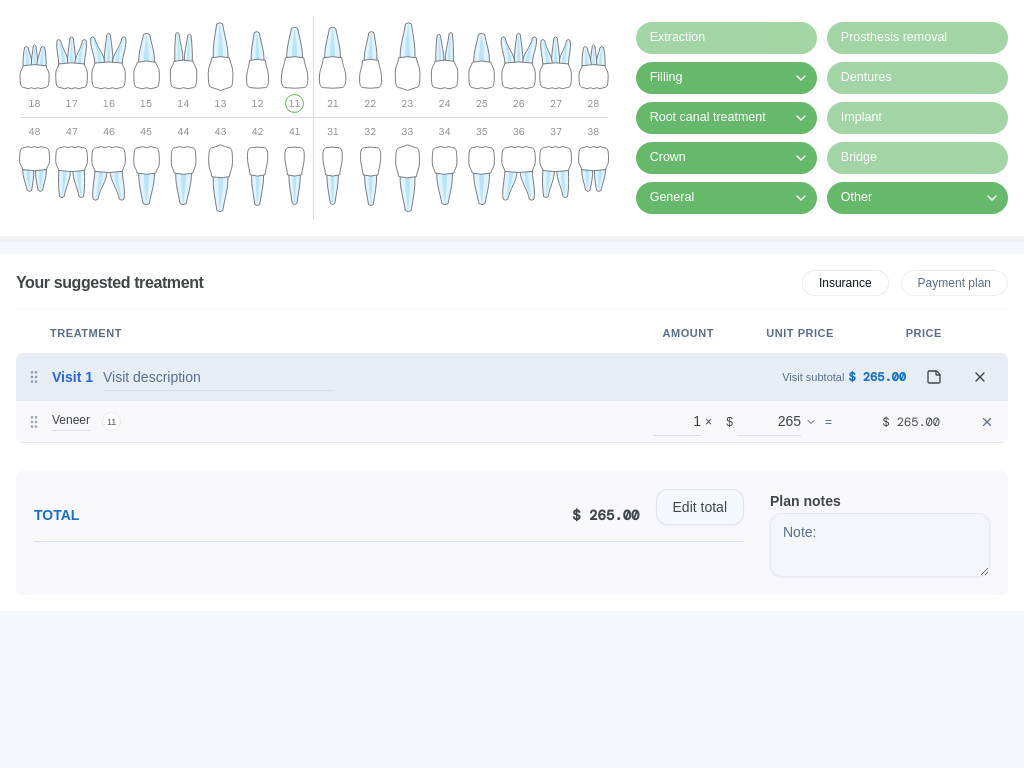
it: edits teeth on the existing treatment row
Click the button named "Edit teeth for Veneer".
click(112, 422)  # box [102,412,121,431]
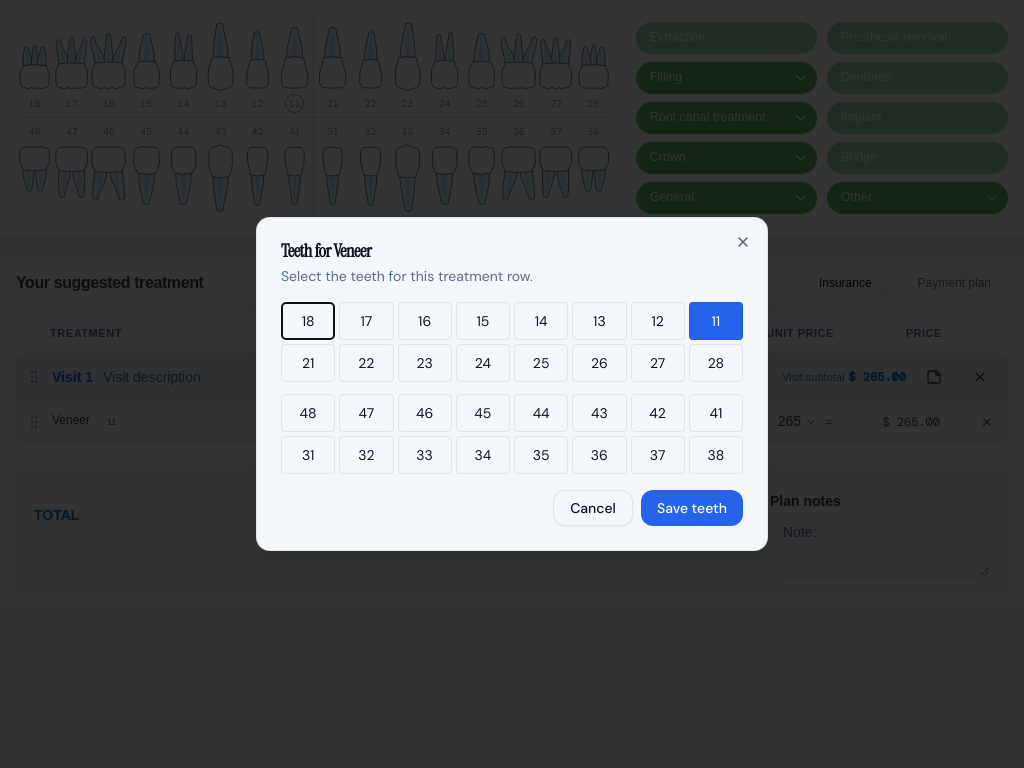
Click the button "18".
click(308, 321)  # box [281,302,335,340]
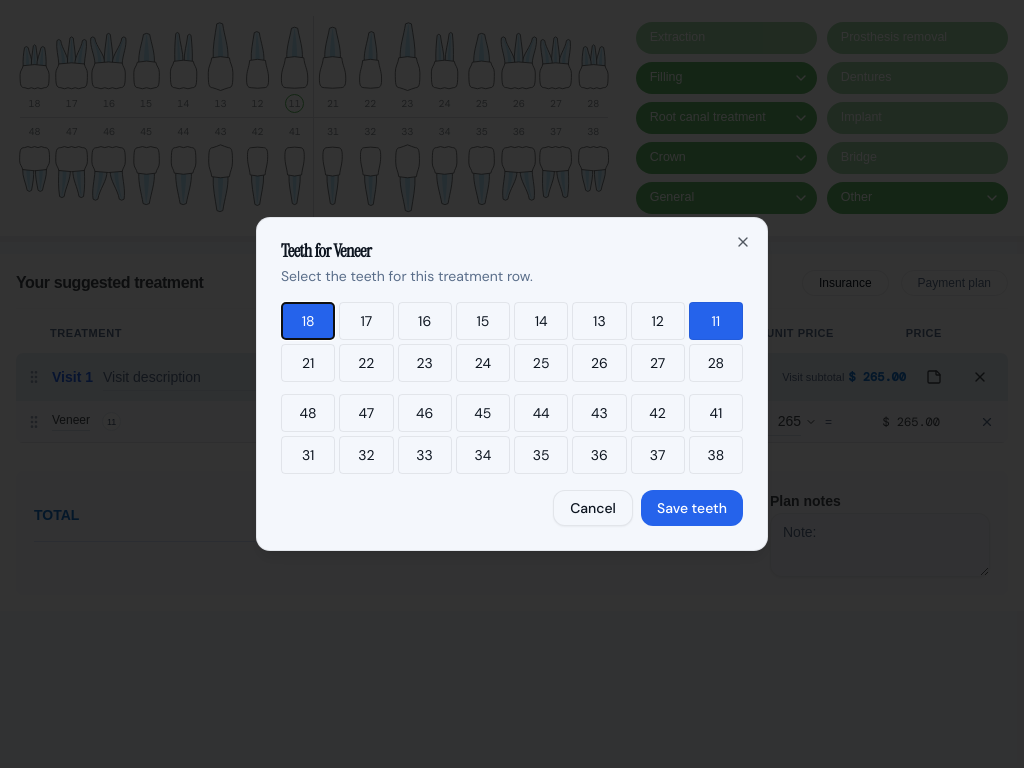
Click the button "Save teeth".
click(692, 508)  # box [641,490,743,526]
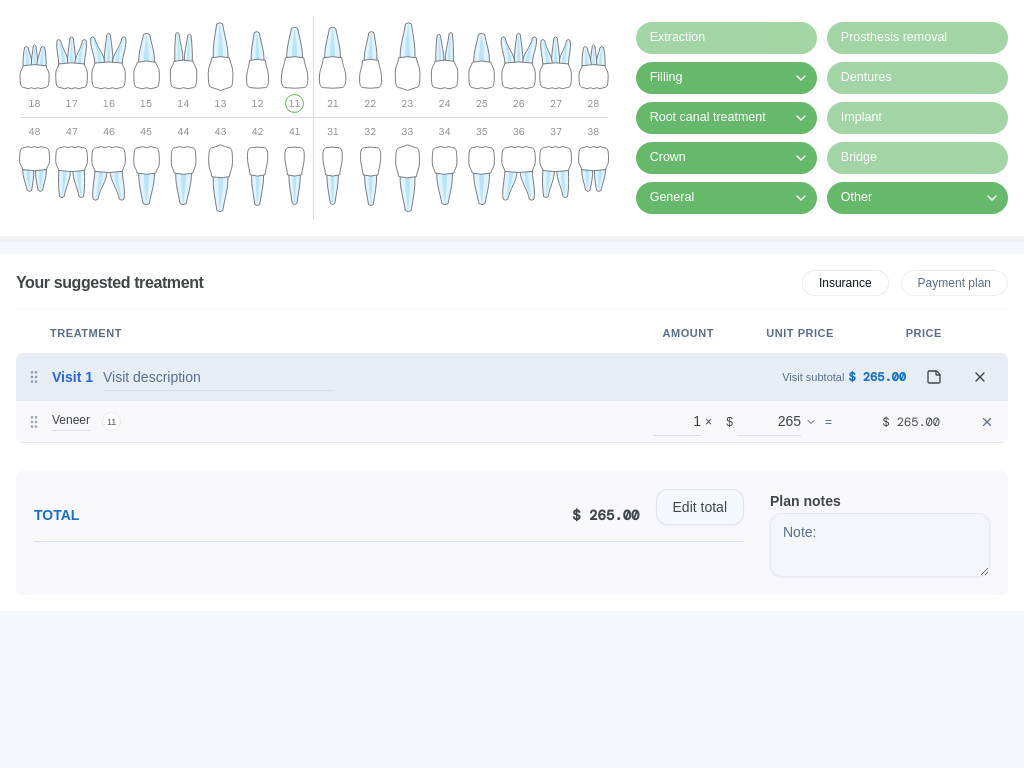
Now the dialog is gone
